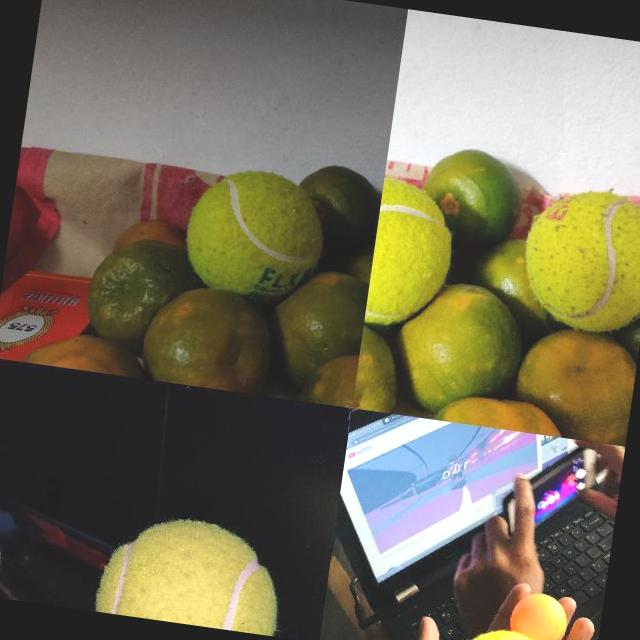Tennis Ball: (93, 509, 290, 636), (514, 181, 640, 338), (179, 161, 305, 297), (365, 176, 428, 322), (450, 622, 563, 640)
